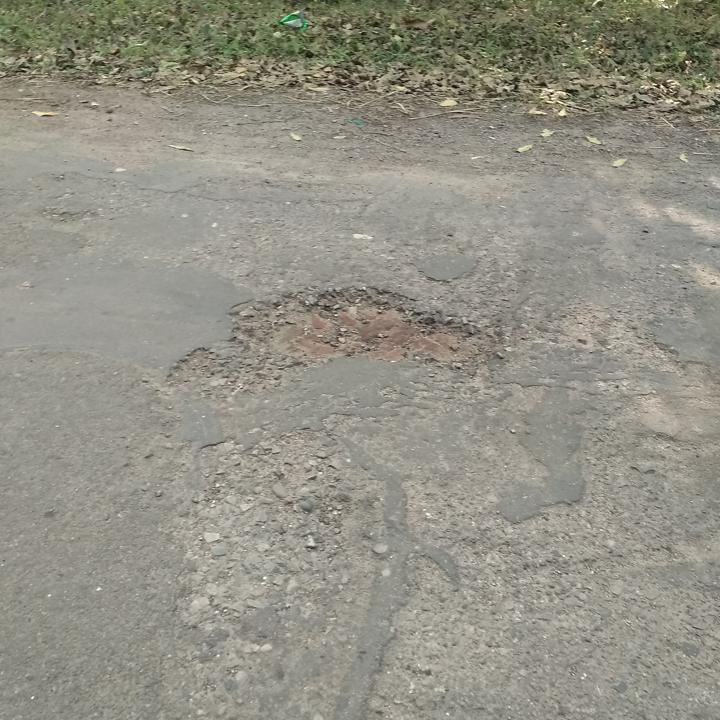pothole: (161, 278, 505, 400)
